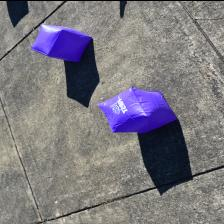cube: (97, 86, 177, 132), (31, 23, 92, 61)
